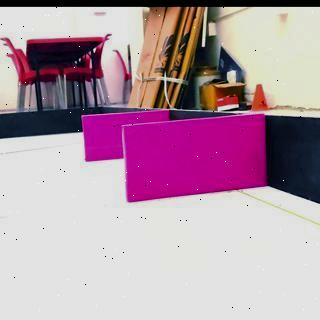xparking: (124, 126, 266, 200), (83, 115, 120, 158)
